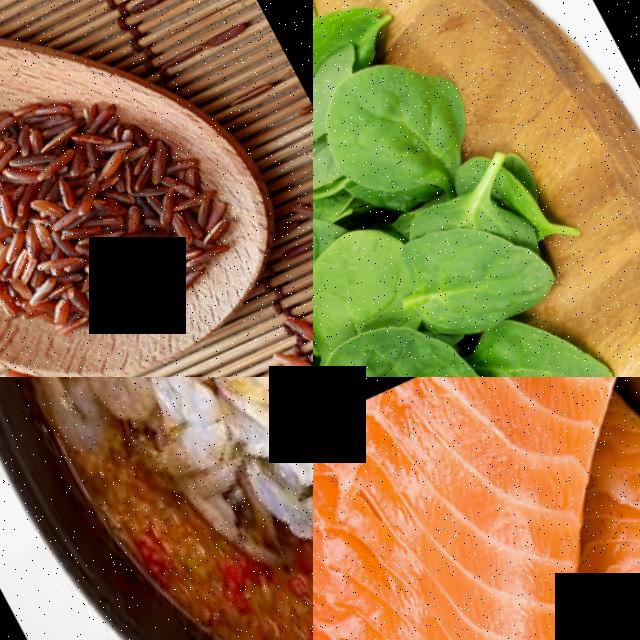red rice: (0, 0, 254, 377)
salmon: (313, 377, 640, 640), (499, 444, 640, 640)
shrimp: (138, 377, 246, 483), (240, 413, 313, 563), (62, 377, 162, 429)
spinach: (313, 20, 491, 218), (387, 178, 566, 353), (313, 282, 484, 377), (469, 276, 628, 377), (313, 209, 412, 348), (313, 124, 344, 207)
